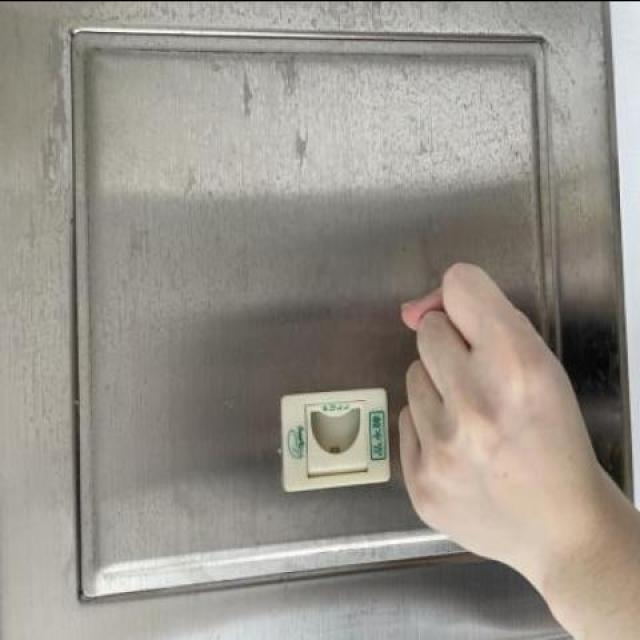fist: (391, 260, 606, 577)
